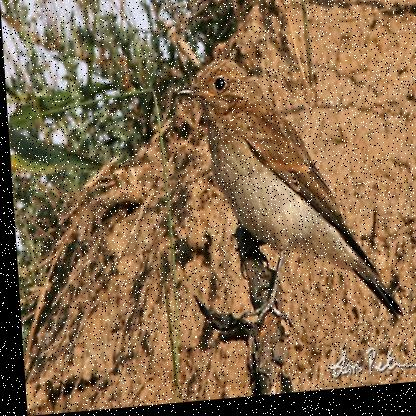Burung: (171, 52, 400, 348)
